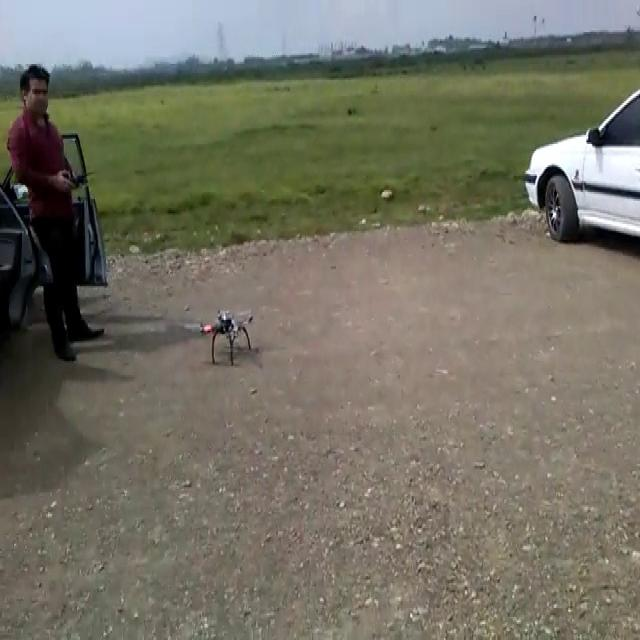drone: (195, 304, 255, 366)
